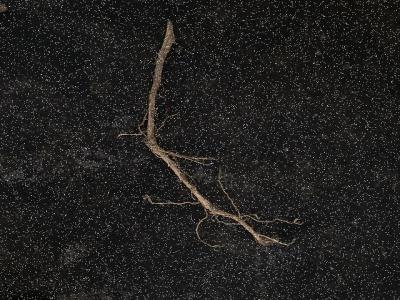Root: (138, 20, 278, 243)
